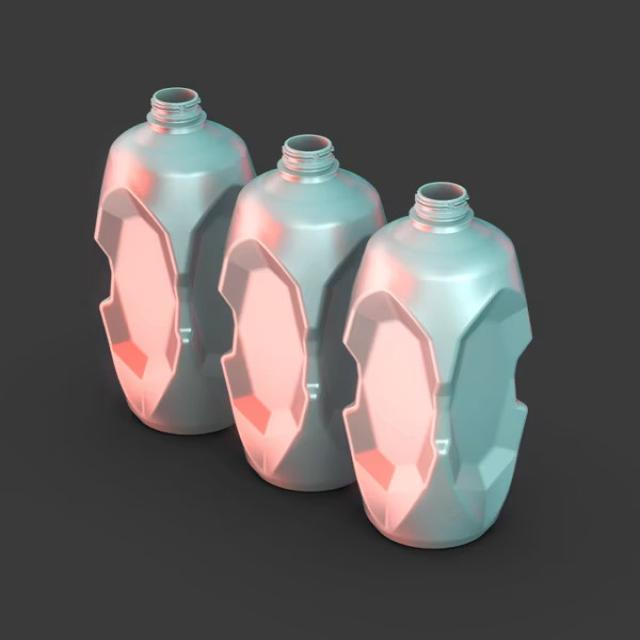Bottle: (345, 183, 531, 547), (220, 135, 383, 490), (95, 88, 253, 434)
